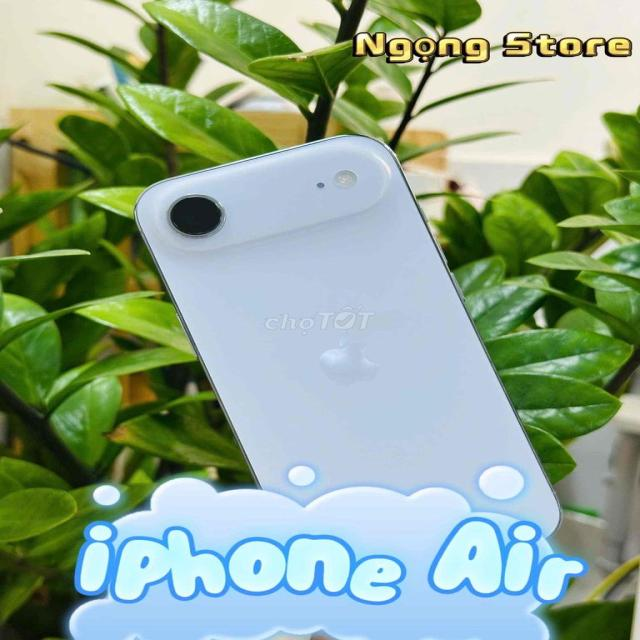gen_17: (135, 136, 559, 532)
